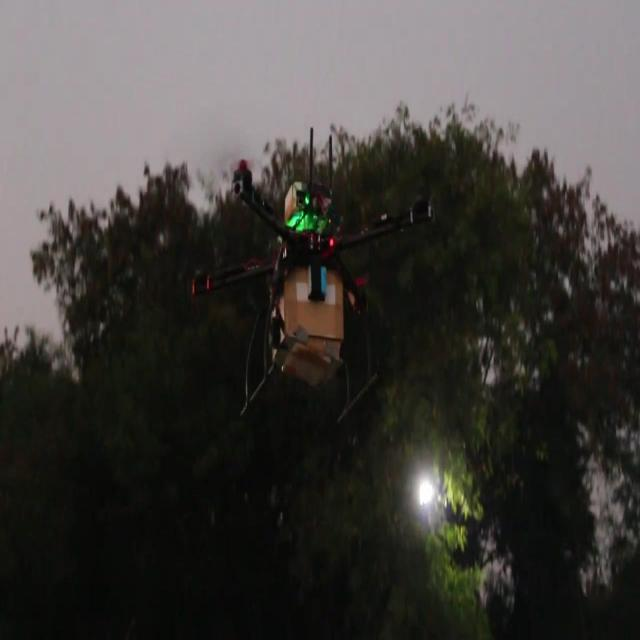UAV: (190, 126, 436, 425)
